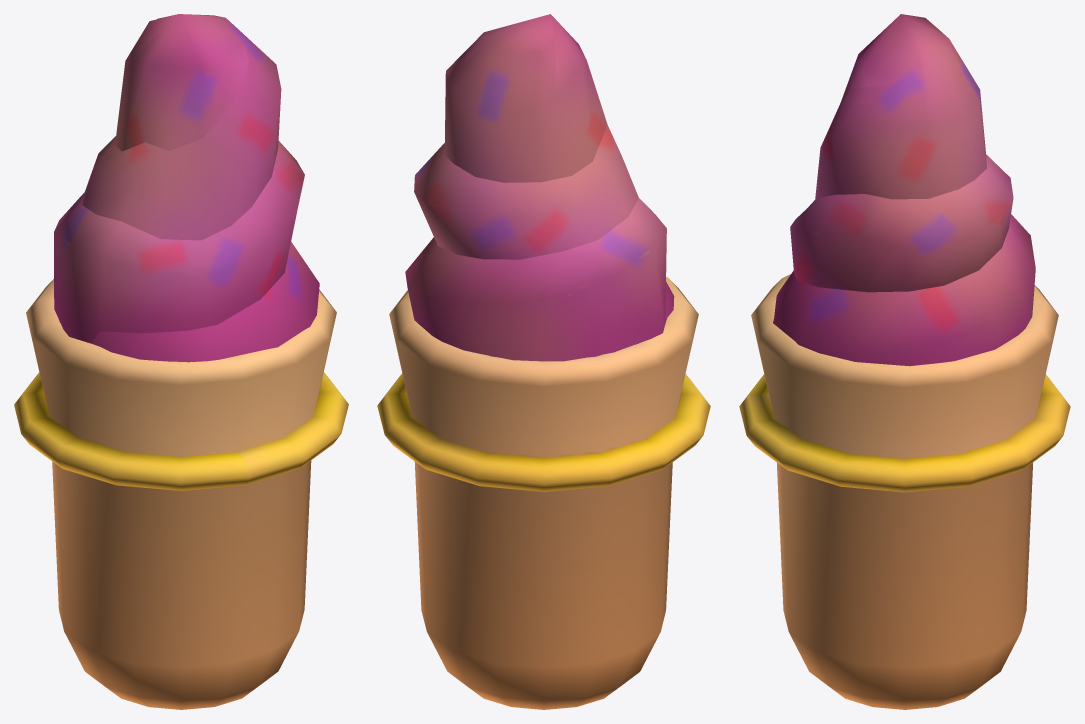
File: ice-cream.glb
3 renders of one model, left to right at view 1: azimuth 30°, elevation 25°; view 2: azimuth 150°, elevation 25°; view 3: azimuth 270°, elevation 25°, orthographic.
Visible parts, largest first — view 1: IceCream_Foodback_Materials_10_20_0; view 2: IceCream_Foodback_Materials_10_20_0; view 3: IceCream_Foodback_Materials_10_20_0.
Boxes of the visible parts, x1=… form: IceCream_Foodback_Materials_10_20_0: x1=14, y1=14, x2=348, y2=709; IceCream_Foodback_Materials_10_20_0: x1=377, y1=14, x2=710, y2=709; IceCream_Foodback_Materials_10_20_0: x1=739, y1=14, x2=1070, y2=709.
Size of the model in its own units: 1.05 by 2.32 by 1.06.
1 material, 1 textured.
